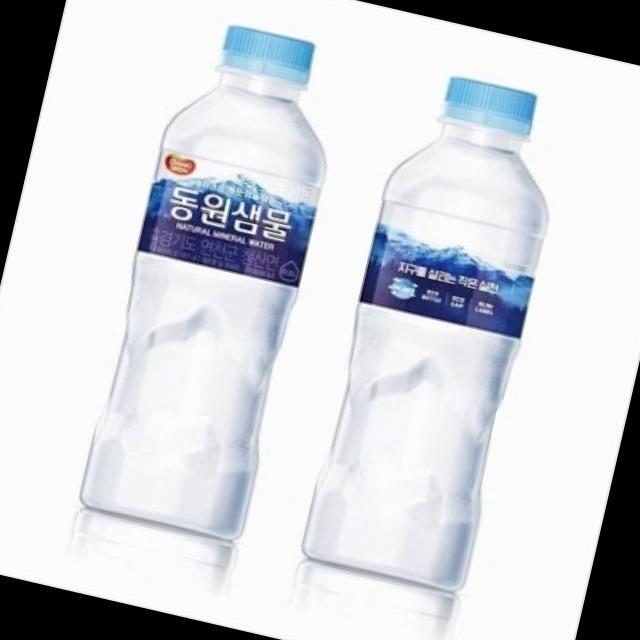BotolPlastik: (295, 61, 578, 596), (73, 10, 355, 545)
